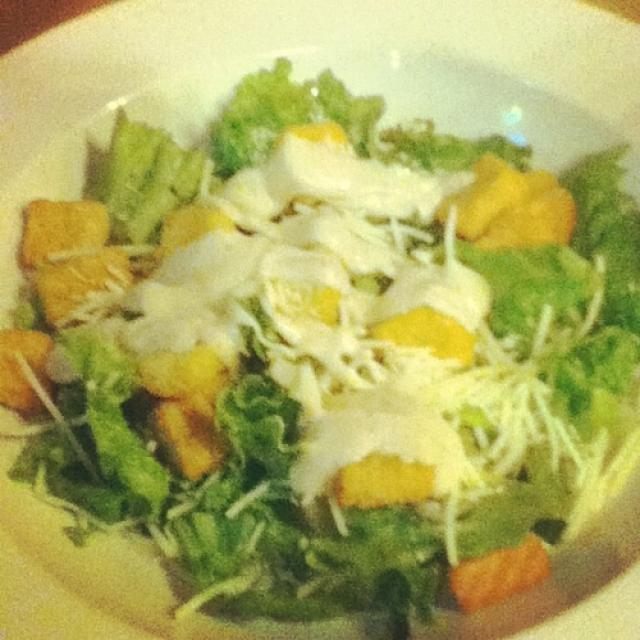蔬菜料理: (8, 15, 627, 631)
